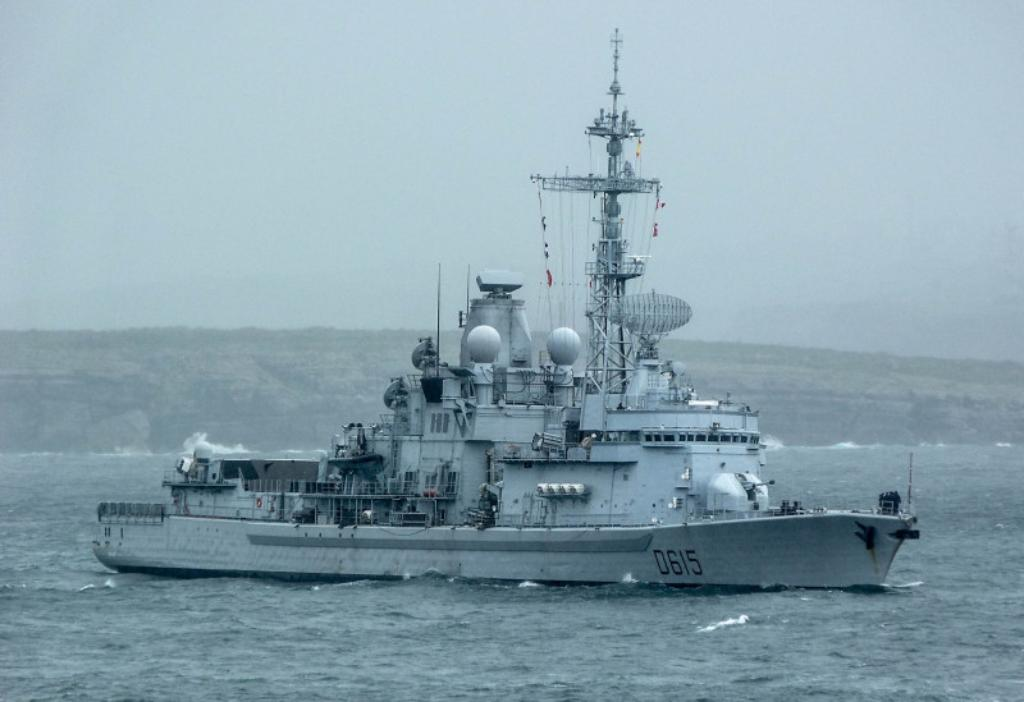Warship: (88, 36, 926, 594)
